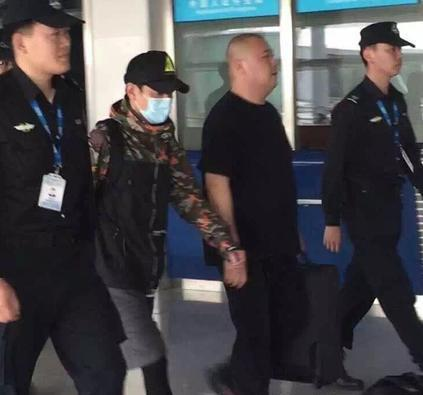NONE: (28, 28, 72, 74), (245, 48, 281, 90), (379, 46, 406, 77)
OK: (134, 81, 177, 124)
